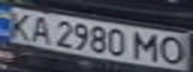0: (106, 26, 130, 57)
2: (51, 17, 75, 50)
8: (87, 24, 109, 55)
9: (69, 20, 90, 52)
A: (24, 15, 57, 44)
K: (0, 9, 36, 39)
M: (130, 30, 163, 63)
O: (157, 34, 190, 65)
